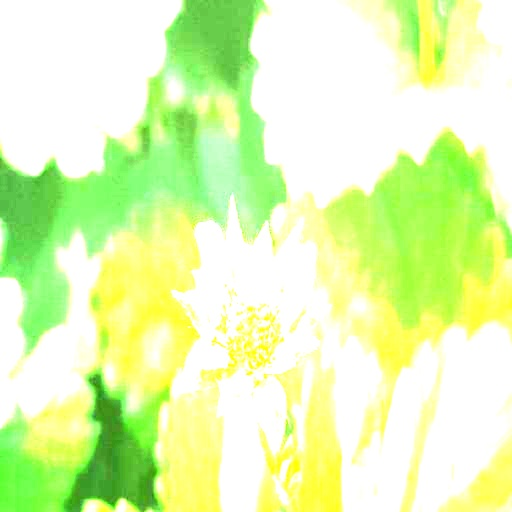Blossom Blight: (207, 280, 291, 378)
